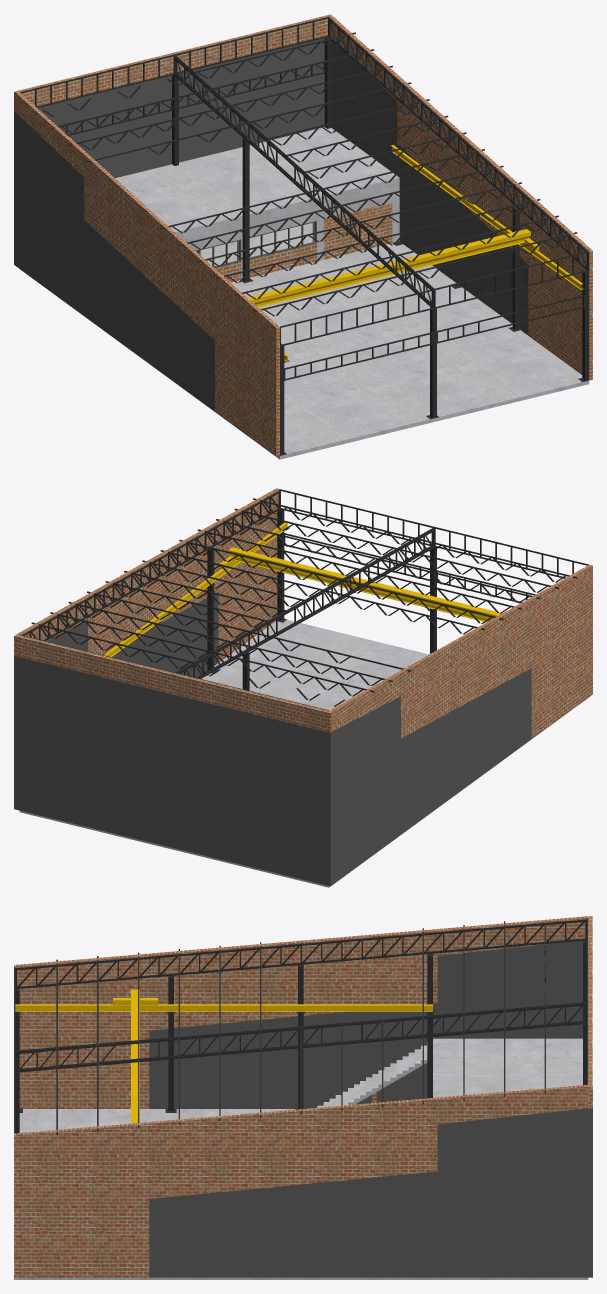
Rendered from Factory.glb.
3 renders of one model, top to bottom at view 1: azimuth 30°, elevation 25°; view 2: azimuth 150°, elevation 25°; view 3: azimuth 270°, elevation 25°, orthographic. The views are drawn at different scales.
Parts seen in each view (by area): view 1: Object_14, Object_13, Object_2, Object_6, Object_5, Object_3; view 2: Object_13, Object_2, Object_6, Object_14, Object_5, Object_3; view 3: Object_13, Object_2, Object_14, Object_5, Object_6, Object_3.
Part boxes in pixels (x1,y1,x2,y2): Object_14: (20, 127, 589, 459); Object_13: (14, 38, 528, 411); Object_2: (14, 14, 592, 456); Object_6: (35, 22, 588, 455); Object_5: (20, 16, 589, 419); Object_3: (247, 145, 582, 361); Object_13: (14, 592, 531, 886); Object_2: (14, 488, 592, 738); Object_6: (31, 494, 577, 706); Object_14: (19, 619, 588, 887); Object_5: (20, 489, 588, 710); Object_3: (103, 522, 502, 656); Object_13: (149, 941, 592, 1277); Object_2: (14, 916, 592, 1277); Object_14: (14, 1038, 588, 1279); Object_5: (14, 918, 588, 1134); Object_6: (15, 921, 586, 1133); Object_3: (15, 989, 432, 1123).
Size of the model in its own units: 18.3 by 9.56 by 25.7.
Materials: 5 (2 with a texture image).
